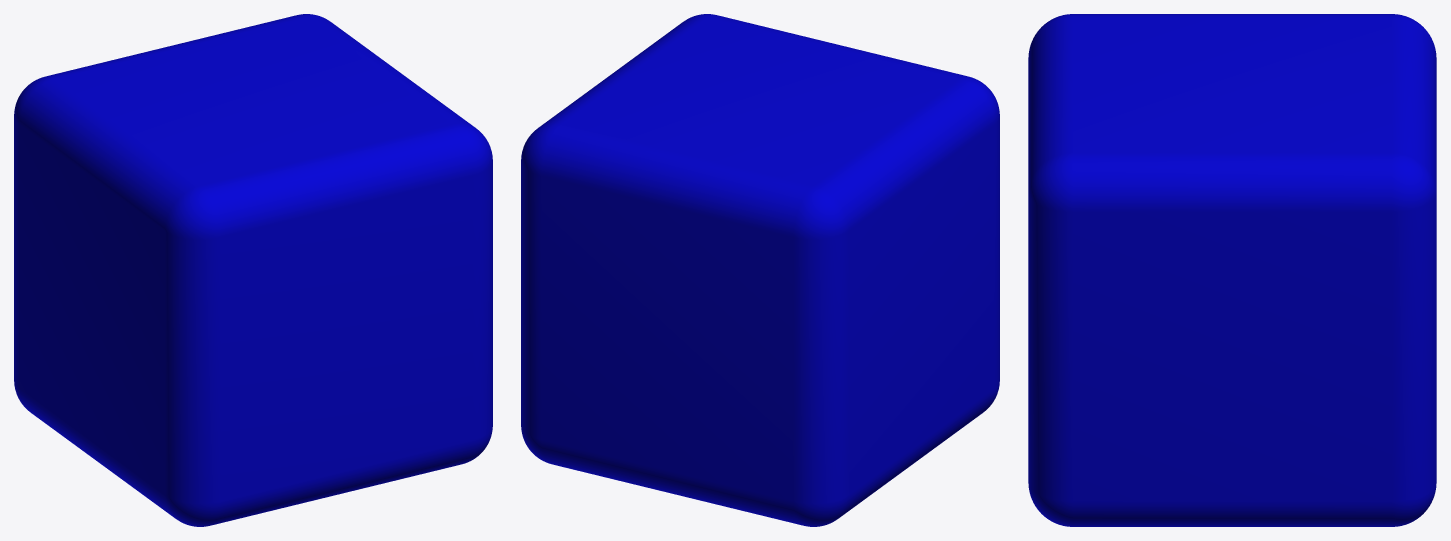
The picture shows the model from 3 angles, left to right: view 1: azimuth 30°, elevation 25°; view 2: azimuth 150°, elevation 25°; view 3: azimuth 270°, elevation 25°; orthographic projection. The views are drawn at different scales.
Parts seen in each view (by area): view 1: Cube; view 2: Cube; view 3: Cube.
Boxes of the visible parts, x1=… form: Cube: x1=14, y1=14, x2=492, y2=526; Cube: x1=521, y1=14, x2=999, y2=526; Cube: x1=1028, y1=14, x2=1436, y2=526.
Bounding box in the file's own units: 105 × 105 × 105.
